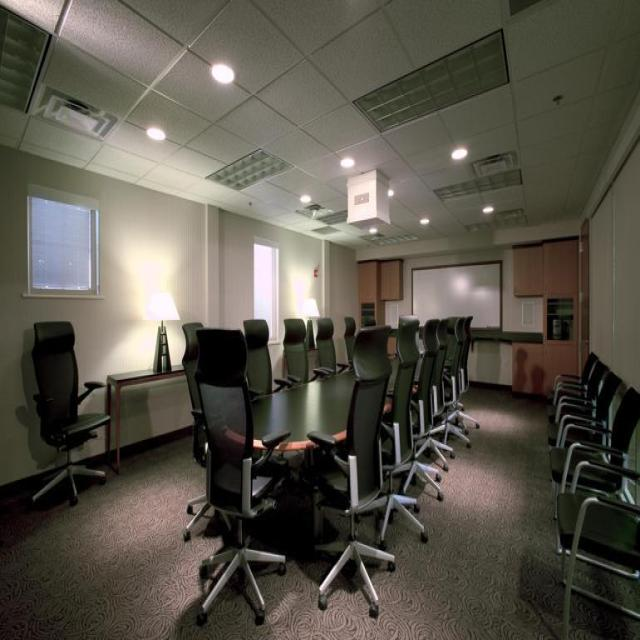chair: (28, 320, 111, 506)
rugs: (1, 381, 638, 639)
table: (106, 362, 186, 473)
table-lamp: (144, 290, 180, 372)
white-board: (411, 259, 501, 329)
windows: (24, 186, 101, 296), (253, 236, 279, 344)
